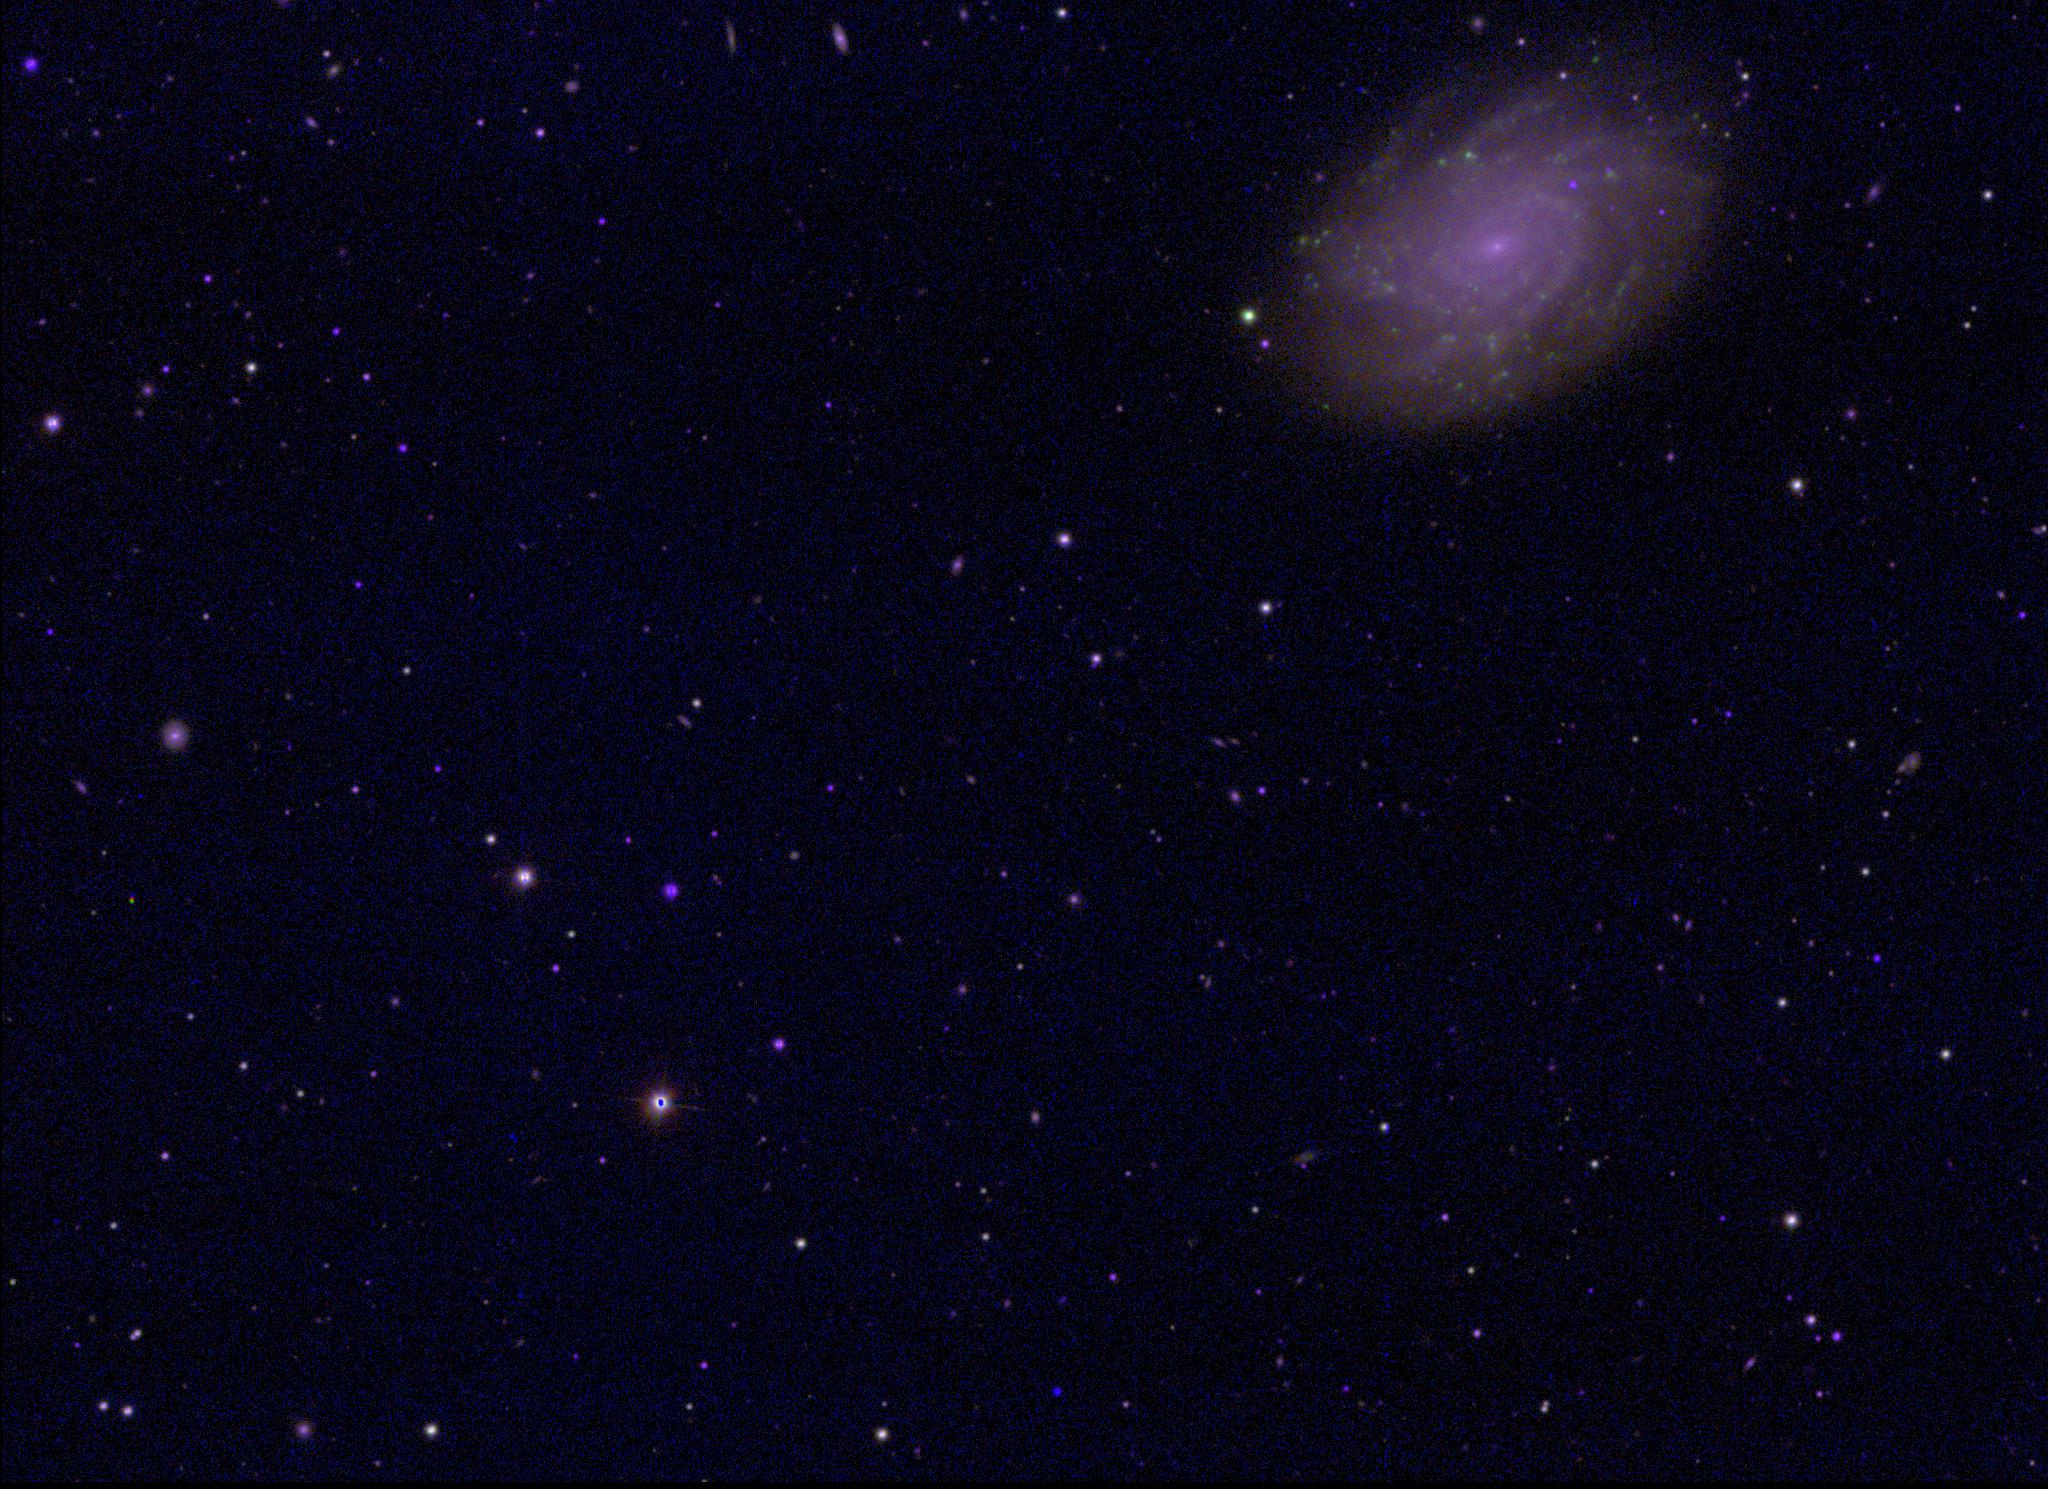L: (1049, 1386, 1064, 1398)
